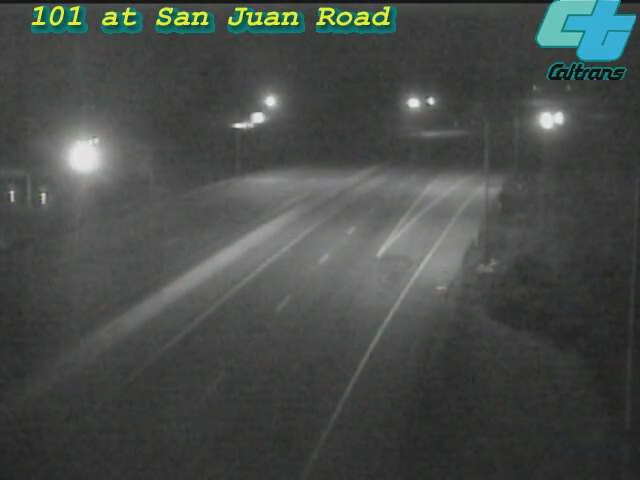vehicle: (524, 95, 574, 145), (534, 93, 584, 143)
